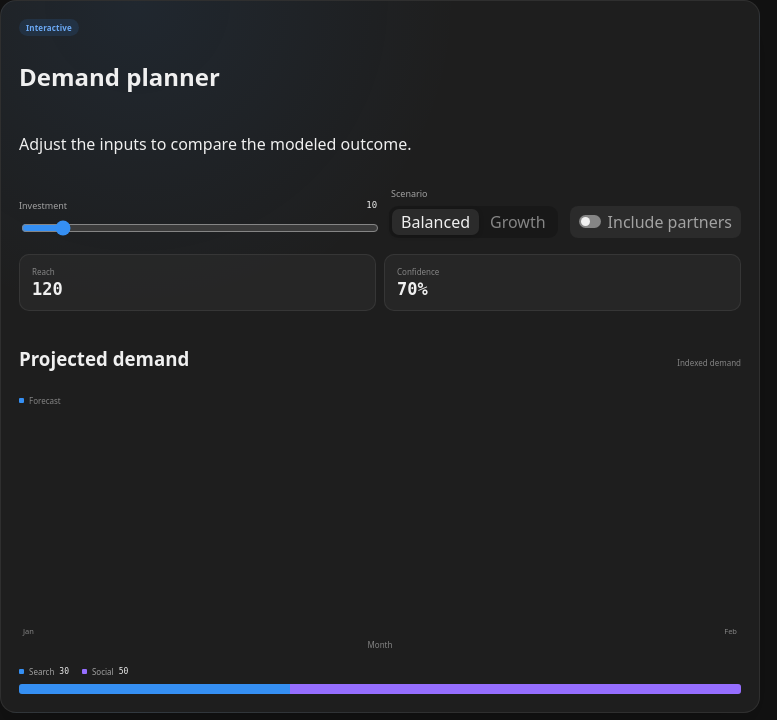
Test: provider-neutral inline visualizations › updates metrics from range, segmented, and toggle controls
expect the text "120" is shown: met, box [32,279,63,299]
expect the text "70%" is shown: met, box [397,279,428,299]
Set the slider to "20": (97, 228) [21,220,379,236]
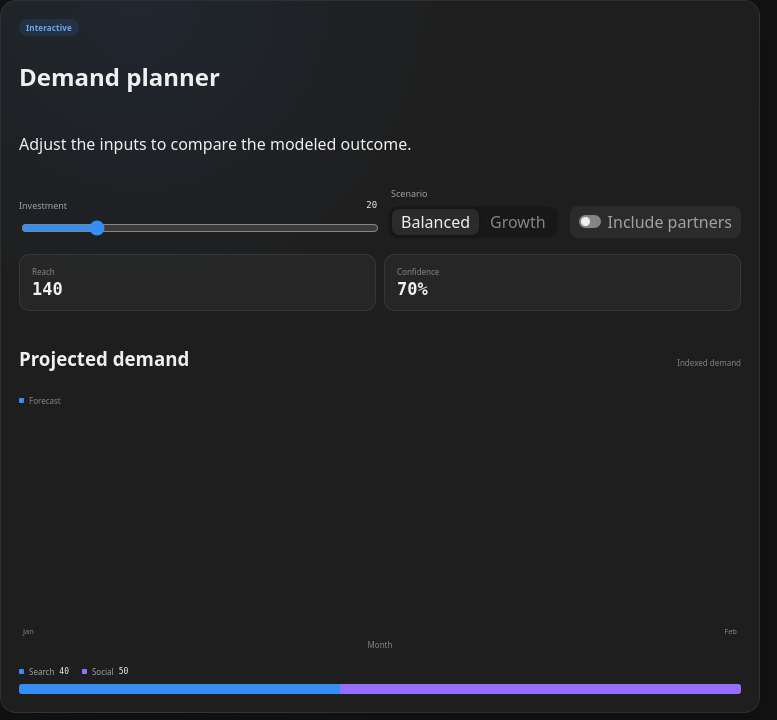
expect the text "140" is shown: met, box [32,279,63,299]
Click the button "Growth": (518, 222) [481,209,554,235]
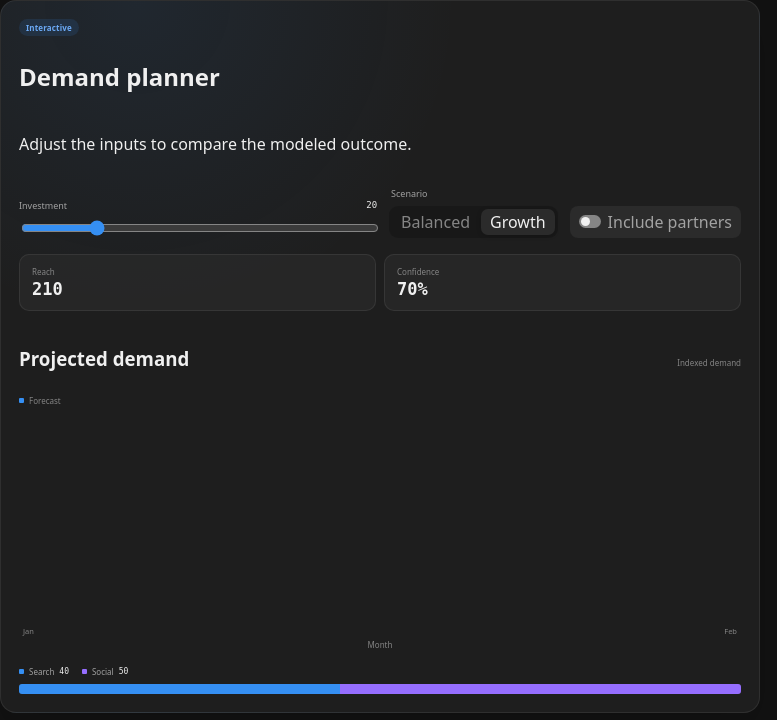
expect the text "210" is shown: met, box [32,279,63,299]
Click the button "Include partners": (655, 222) [570,206,741,238]
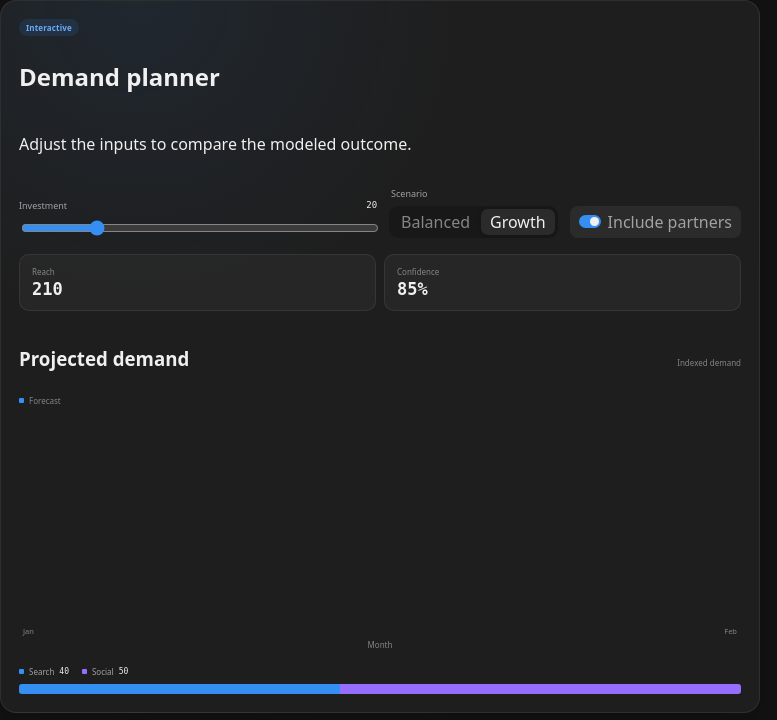
expect the picture named "Demand planner: Projected demand" is shown: met, box [19,390,741,642]
expect the text "85%" is shown: met, box [397,279,428,299]
